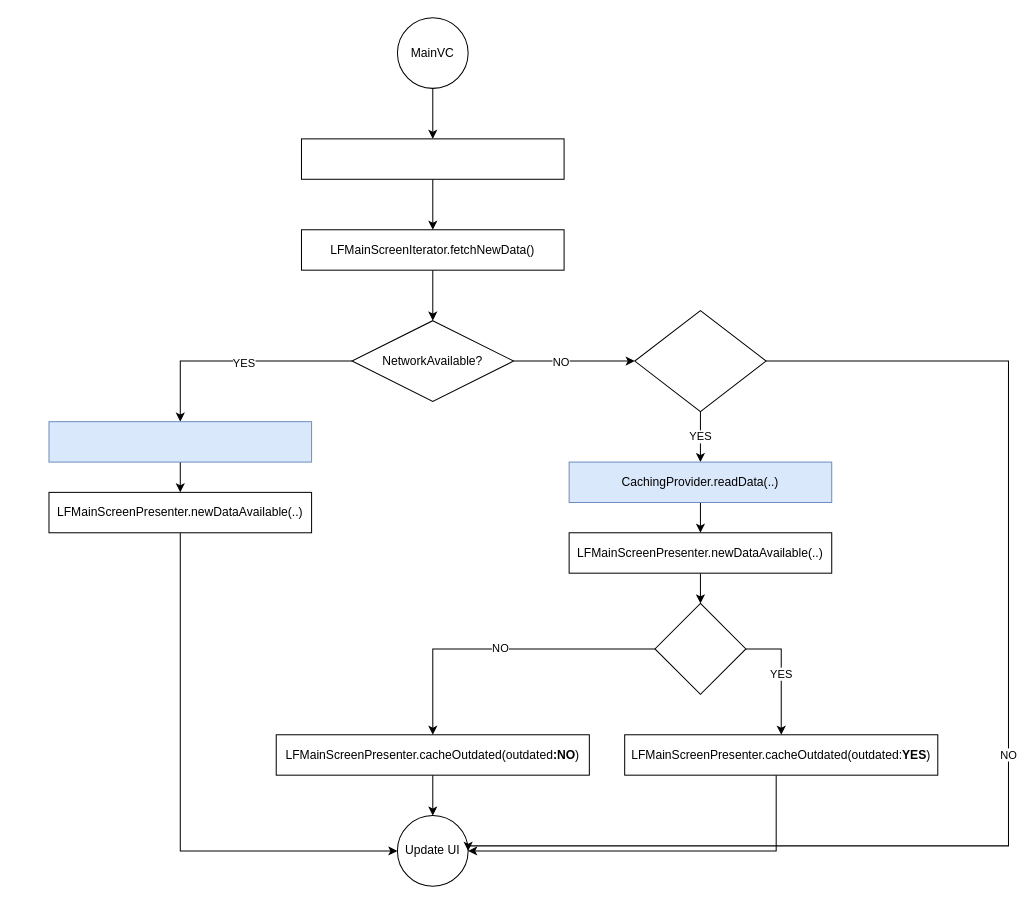
Some shapes in this 1034 by 904 pixel diagram are drawn without their labels. The shapes that lost their labels are listed below. From the top down, each one's centre as x and y in pixels, then its label:
At [432,158]: "LFMainScreenPresenter.screenDidAppear()".
At [700,361]: "Cache available?".
At [180,441]: "CachingProvider.storeData(..)".
At [700,648]: "Cache outdated?".
